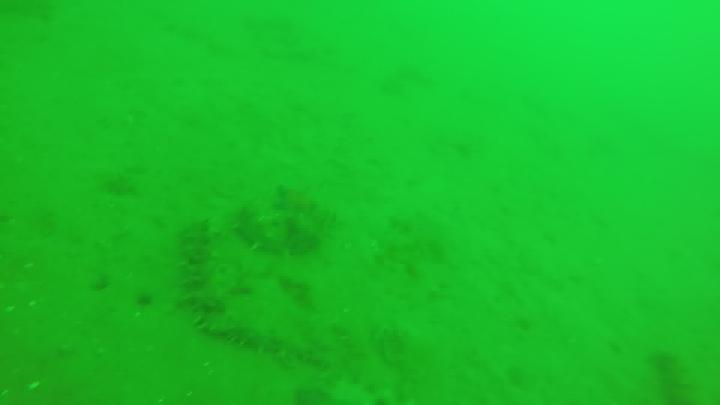holothurian: (196, 318, 329, 367), (234, 205, 315, 256), (175, 225, 219, 309)
